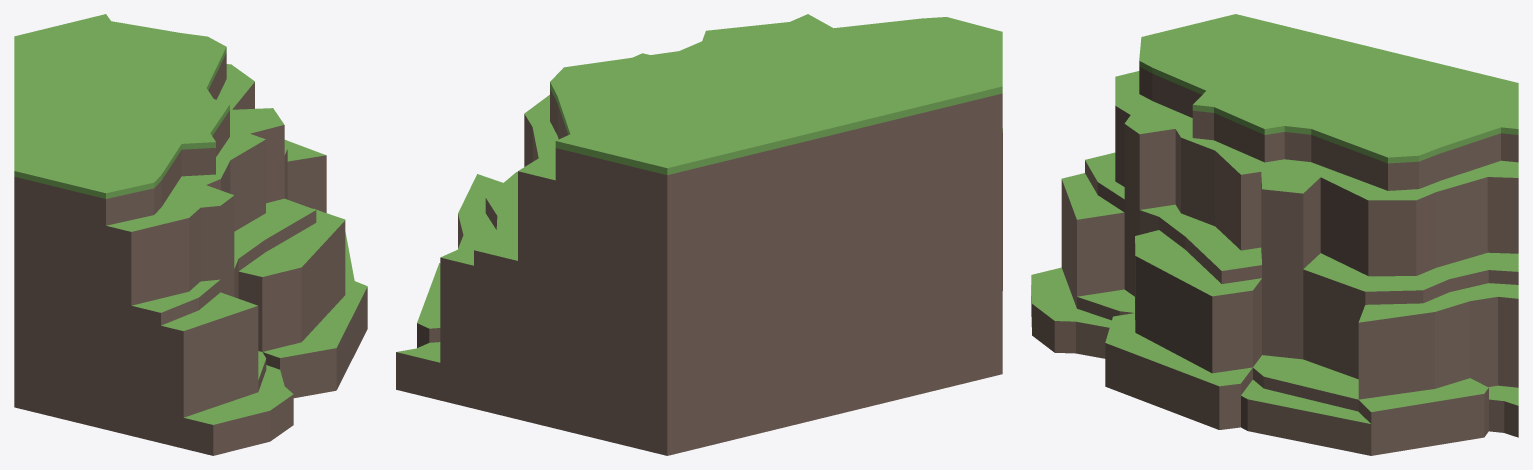
The model's file is tile_Cliff07.fbx.
3 renders of one model, left to right at view 1: azimuth 30°, elevation 25°; view 2: azimuth 150°, elevation 25°; view 3: azimuth 270°, elevation 25°, orthographic. The views are drawn at different scales.
Parts seen in each view (by area): view 1: Tile_Cliff1; view 2: Tile_Cliff1; view 3: Tile_Cliff1.
Boxes of the visible parts, x1,y1,x2,y2 form: Tile_Cliff1: (14,14,367,455); Tile_Cliff1: (396,14,1002,455); Tile_Cliff1: (1031,14,1518,455).
Bounding box in the file's own units: 1.44 × 0.82 × 1.49.
